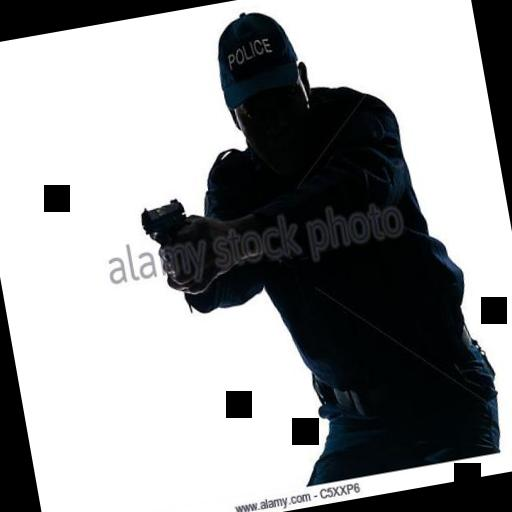Handgun: (132, 190, 195, 268)
